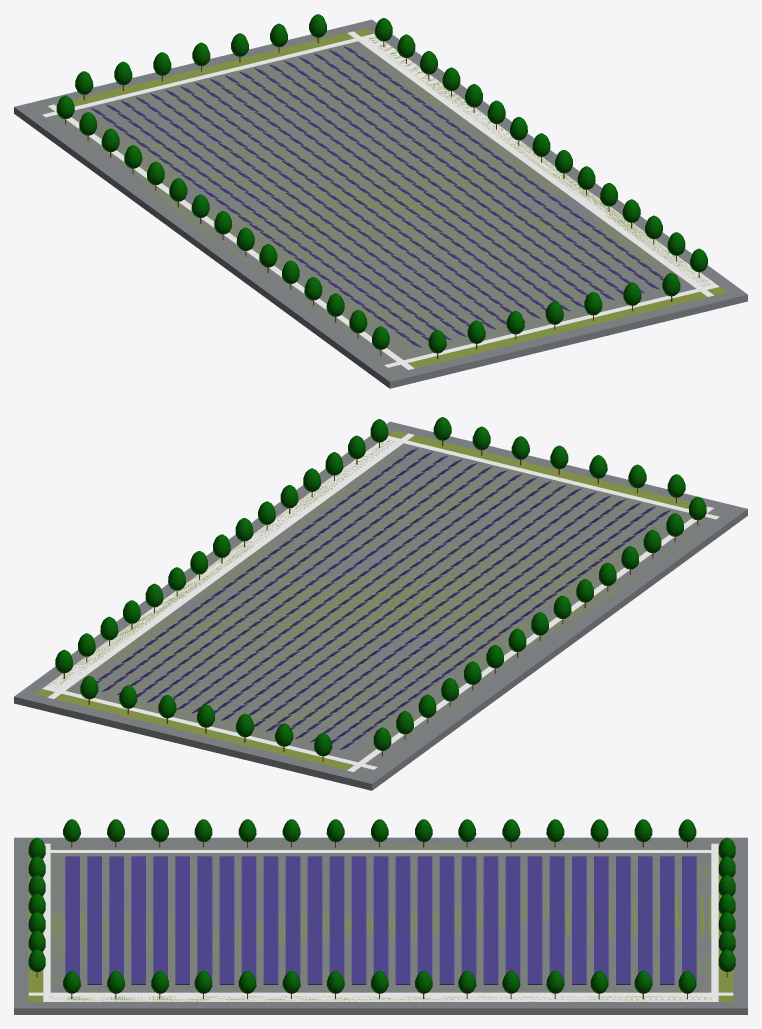
Rendered from 225_solar_panels.dae.
3 renders of one model, top to bottom at view 1: azimuth 30°, elevation 25°; view 2: azimuth 150°, elevation 25°; view 3: azimuth 270°, elevation 25°, orthographic. The views are drawn at different scales.
Parts seen in each view (by area): view 1: Component_3 (×9); view 2: Component_3 (×9); view 3: Component_3 (×8).
Part boxes in pixels (box(x1,y1,x2,y2)): Component_3 (×9): box(14, 19, 747, 388); Component_3 (×9): box(14, 421, 747, 790); Component_3 (×8): box(14, 837, 747, 1014).
Bounding box in the file's own units: 53.63 × 97.5 × 4.99.
